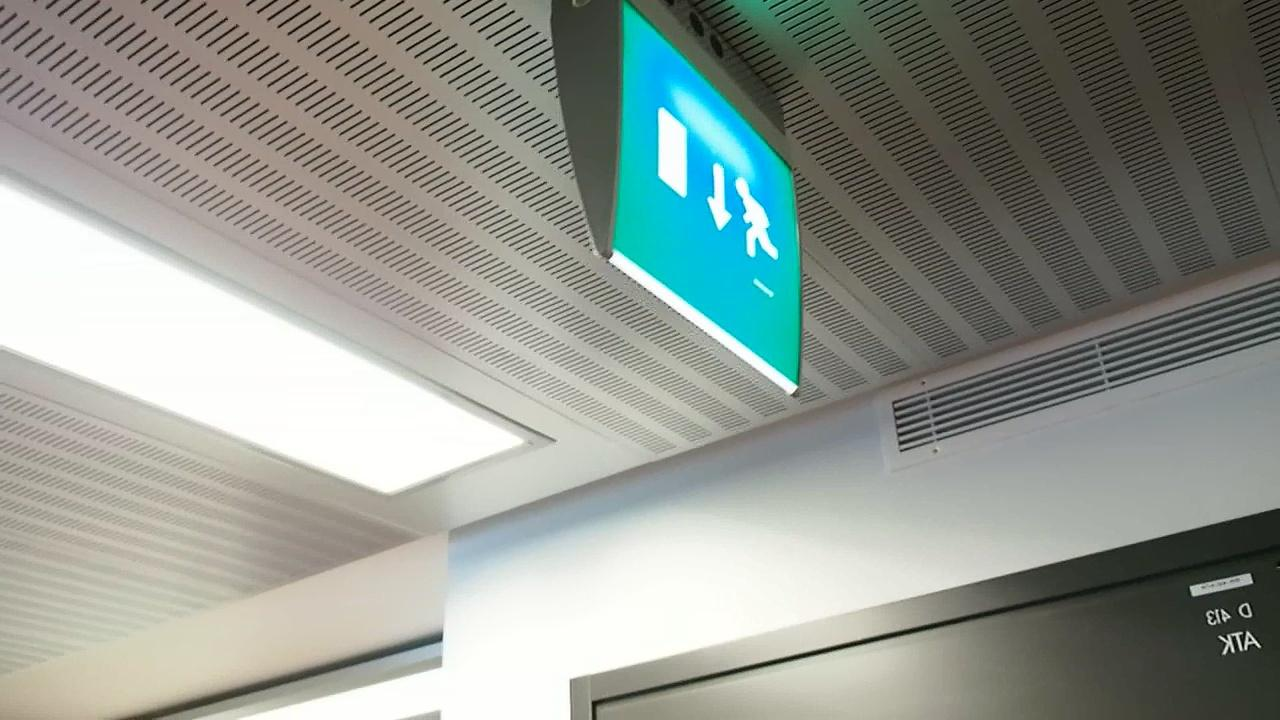exit: (602, 50, 802, 366)
